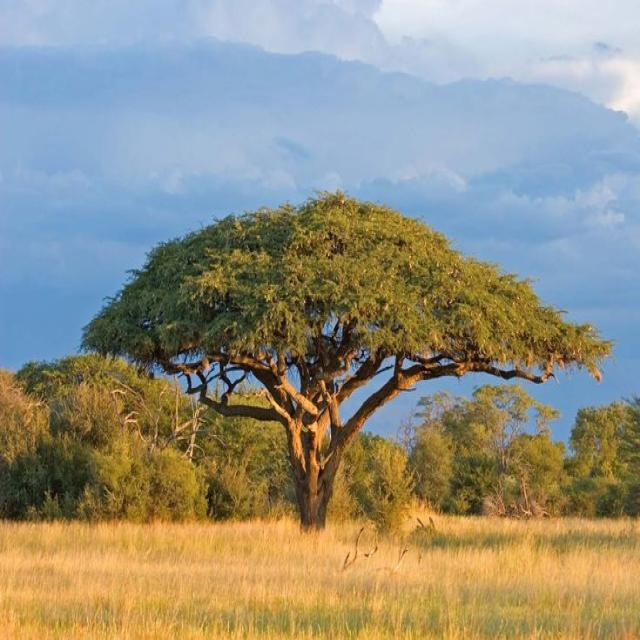Acacia: (132, 203, 496, 523)
